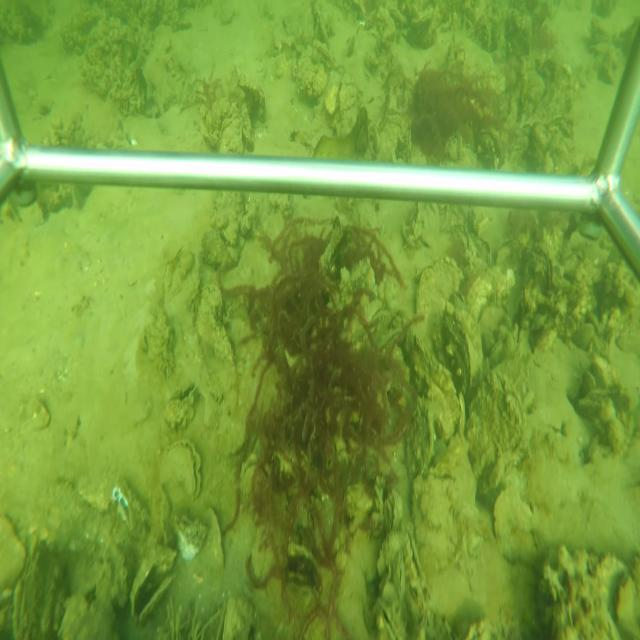Oyster-Closed: (467, 370, 525, 502), (412, 340, 462, 442), (446, 296, 480, 393), (414, 257, 462, 317), (386, 489, 402, 529), (394, 551, 405, 600), (402, 124, 413, 162)
Oyster-Indeterminate: (491, 488, 542, 566), (291, 52, 328, 99), (202, 505, 227, 566)
Oyster-Open: (130, 545, 178, 626), (398, 522, 431, 608), (160, 435, 202, 502), (374, 607, 406, 638), (470, 231, 493, 267)
